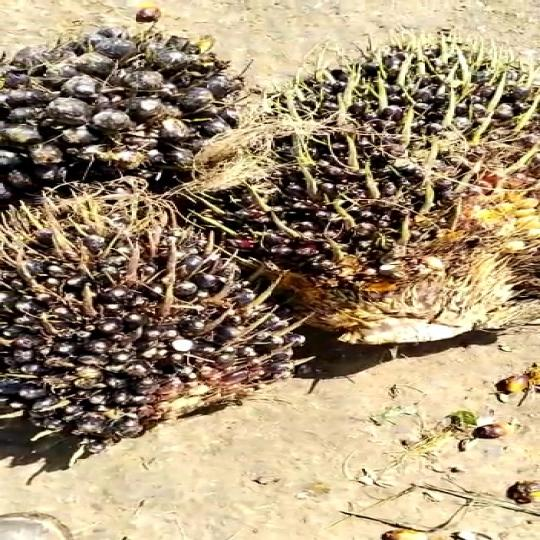mentah: (0, 183, 295, 430), (209, 127, 517, 350), (271, 33, 540, 269), (0, 15, 223, 200)
